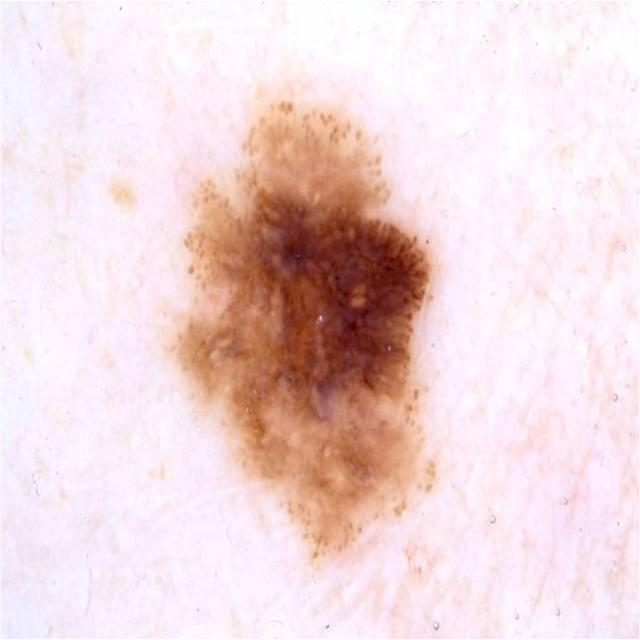Skin-Cancer Melanoma: (48, 82, 581, 640)
